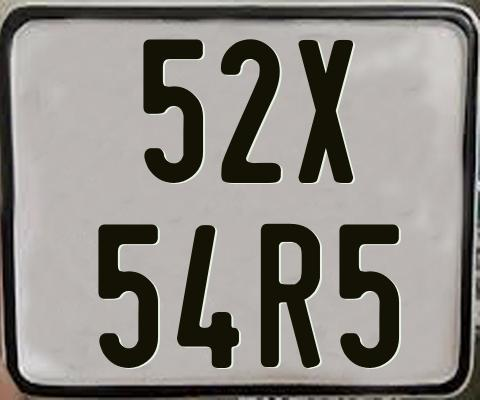2: (219, 36, 284, 186)
4: (176, 224, 238, 369)
5: (141, 36, 203, 184), (336, 221, 398, 366), (97, 223, 158, 370)
R: (260, 222, 321, 369)
X: (295, 38, 353, 183)
